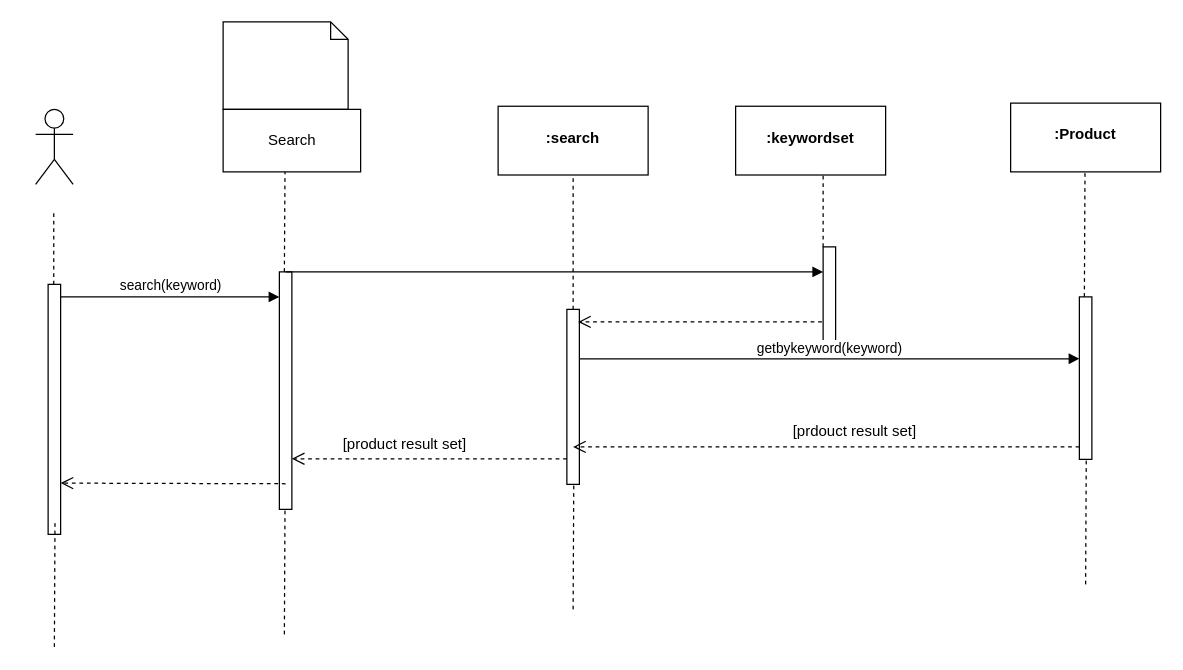
This 1183x670 diagram has some shape labels left out. Here are the shapes that lost their labels. From the top down, the centre of each, then its label:
At (x=285, y=65): "Gui".
At (x=53, y=146): "Customer".
